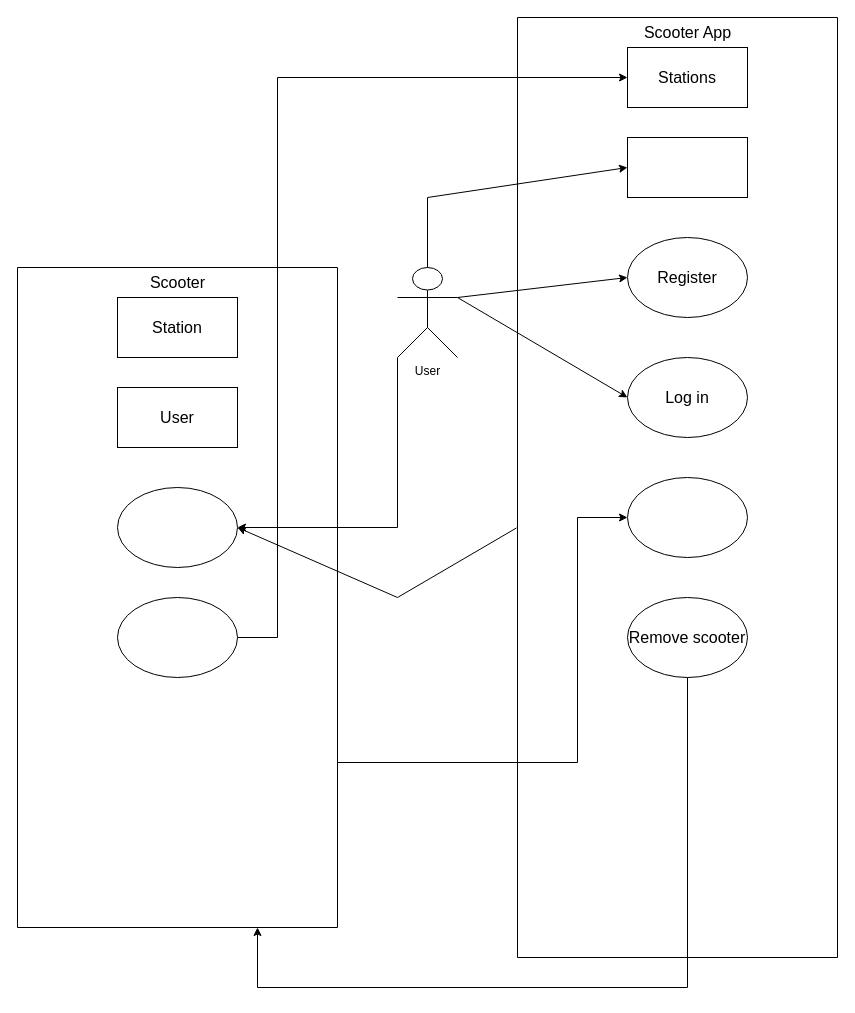
Some shapes in this 855 by 1013 pixel diagram are drawn without their labels. Here are the shapes that lost their labels. From the top down, the centre of each, then its label:
At (x=687, y=167): "Users".
At (x=177, y=527): "Rent".
At (x=687, y=517): "Add scooter".
At (x=177, y=637): "Dock".
